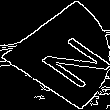N_NW: (10, 23, 100, 87)
